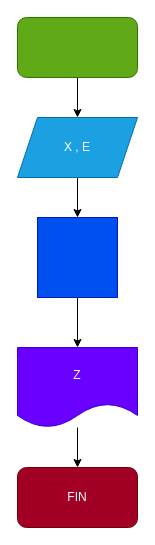
Image size: 155x545. Some labels were removed from this diagram. The shapes that lost their labels are listed below. From the top down, each one's centre as x and y in pixels, then its label:
(x=77, y=47): INICIO
(x=77, y=257): Z = X** (1/E)
